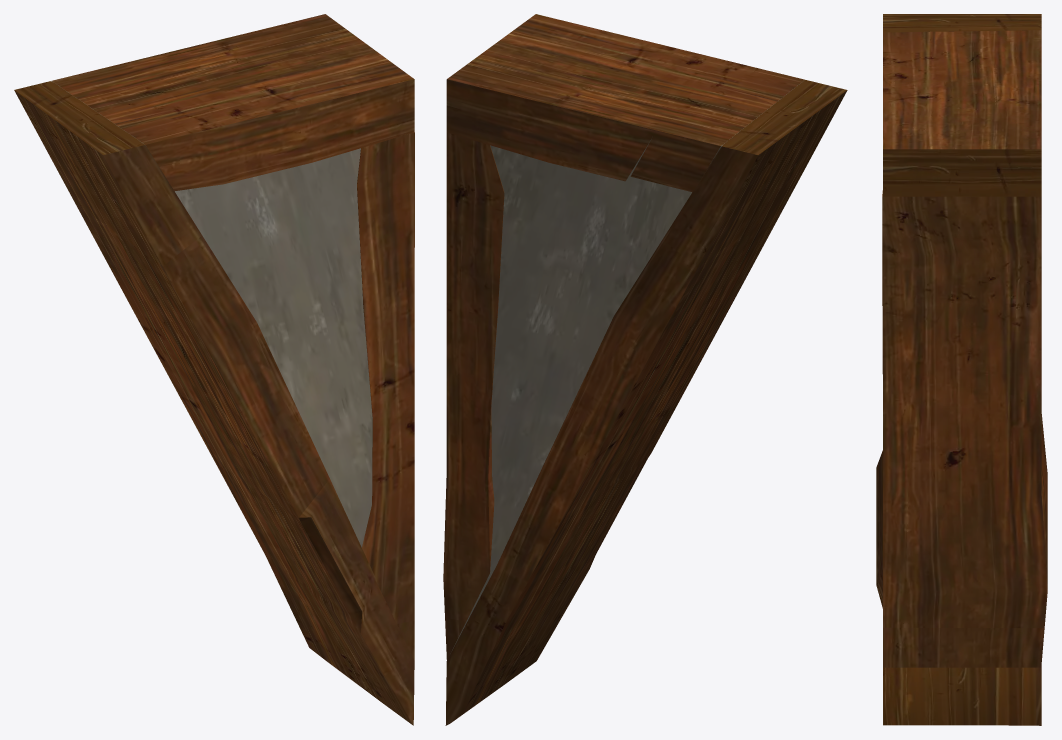
3 renders of one model, left to right at view 1: azimuth 30°, elevation 25°; view 2: azimuth 150°, elevation 25°; view 3: azimuth 270°, elevation 25°, orthographic. The views are drawn at different scales.
Parts seen in each view (by area): view 1: SM_BB_T2_Wall_Slanted_Steep_Med_Inverted_LOD0; view 2: SM_BB_T2_Wall_Slanted_Steep_Med_Inverted_LOD0; view 3: SM_BB_T2_Wall_Slanted_Steep_Med_Inverted_LOD0.
Boxes of the visible parts, box(x1,y1,x2,y2) form: SM_BB_T2_Wall_Slanted_Steep_Med_Inverted_LOD0: box(14, 14, 414, 725); SM_BB_T2_Wall_Slanted_Steep_Med_Inverted_LOD0: box(443, 14, 847, 725); SM_BB_T2_Wall_Slanted_Steep_Med_Inverted_LOD0: box(876, 14, 1047, 725).
Size of the model in its own units: 0.7617 by 1.51 by 0.406.
Materials: 2 (2 with a texture image).
